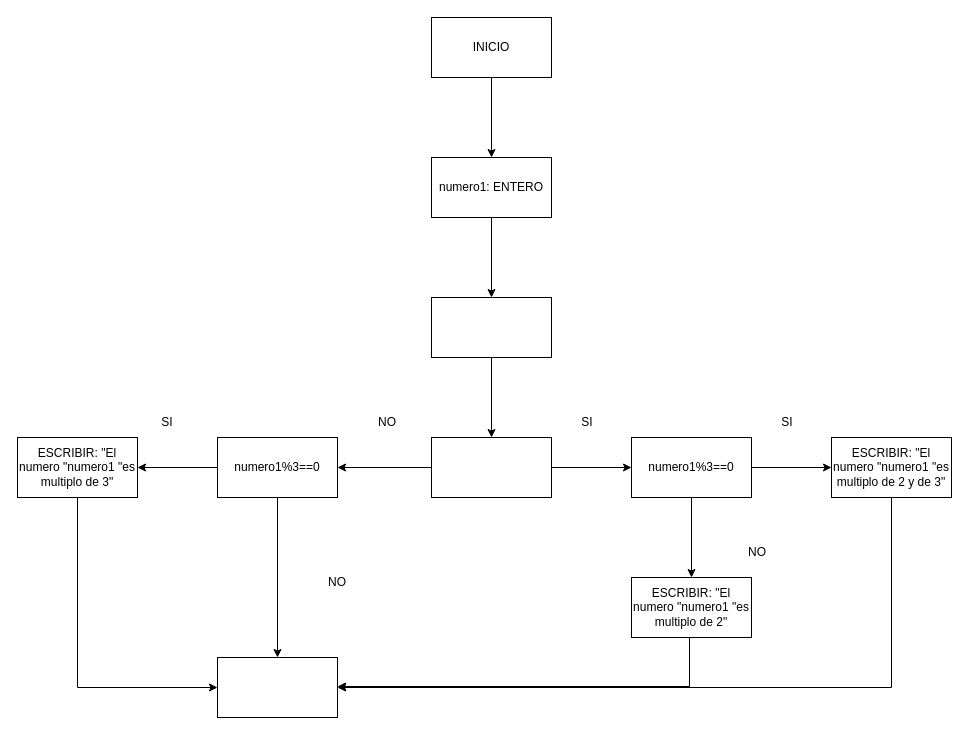
Some shapes in this 969 by 735 pixel diagram are drawn without their labels. Here are the shapes that lost their labels. From the top down, the box of each, then its label:
(430, 296, 552, 358): ESCRIBIR: "Introduce un numero entero" LEER: numero1
(430, 436, 552, 498): numero1%2==0
(216, 656, 338, 718): FIN
